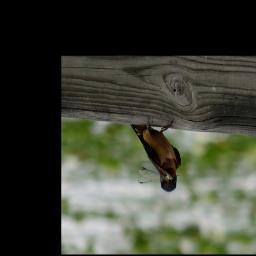Swallow: (130, 114, 181, 192)
